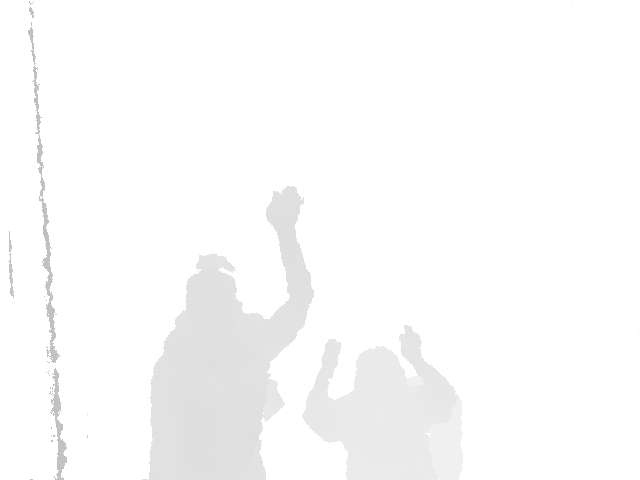hand: (264, 185, 305, 230), (399, 324, 424, 366), (320, 338, 342, 376)
head: (179, 254, 245, 333), (347, 346, 399, 400)
person: (145, 185, 316, 479), (303, 324, 468, 480)
